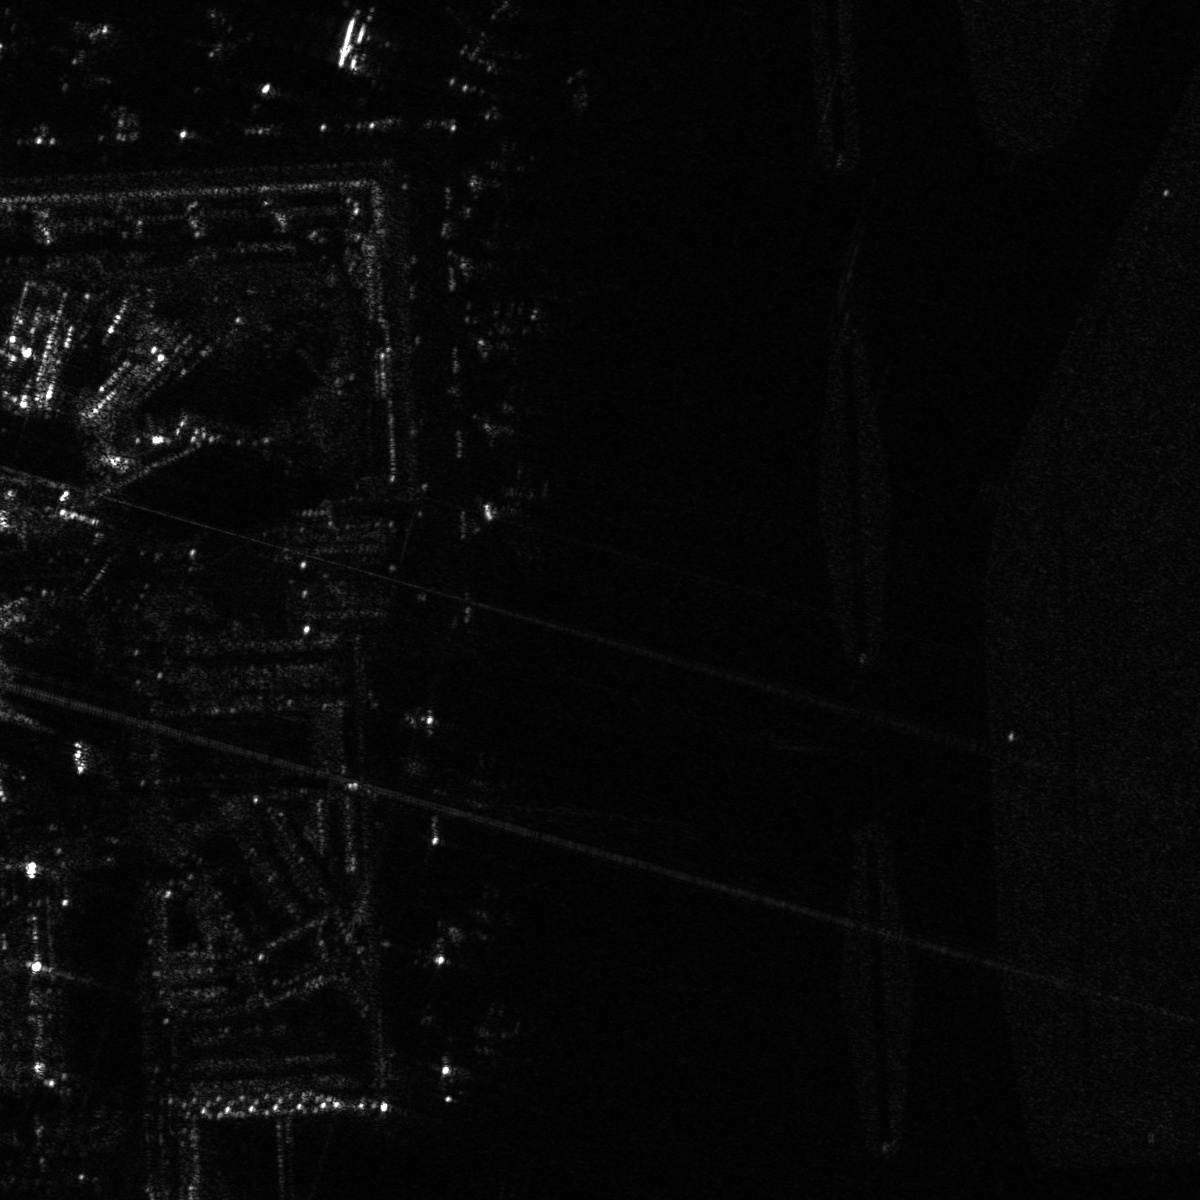A220: (436, 873, 544, 969), (438, 991, 541, 1074), (473, 462, 554, 554), (477, 369, 554, 456), (473, 290, 551, 371)
Boeing787: (307, 1, 392, 91), (174, 1, 268, 60)
other: (35, 13, 123, 104)
